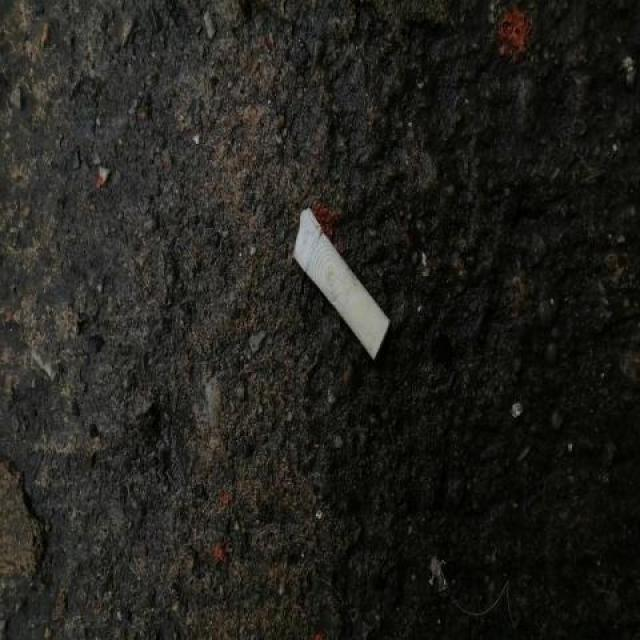non-organic waste: (286, 204, 395, 367)
